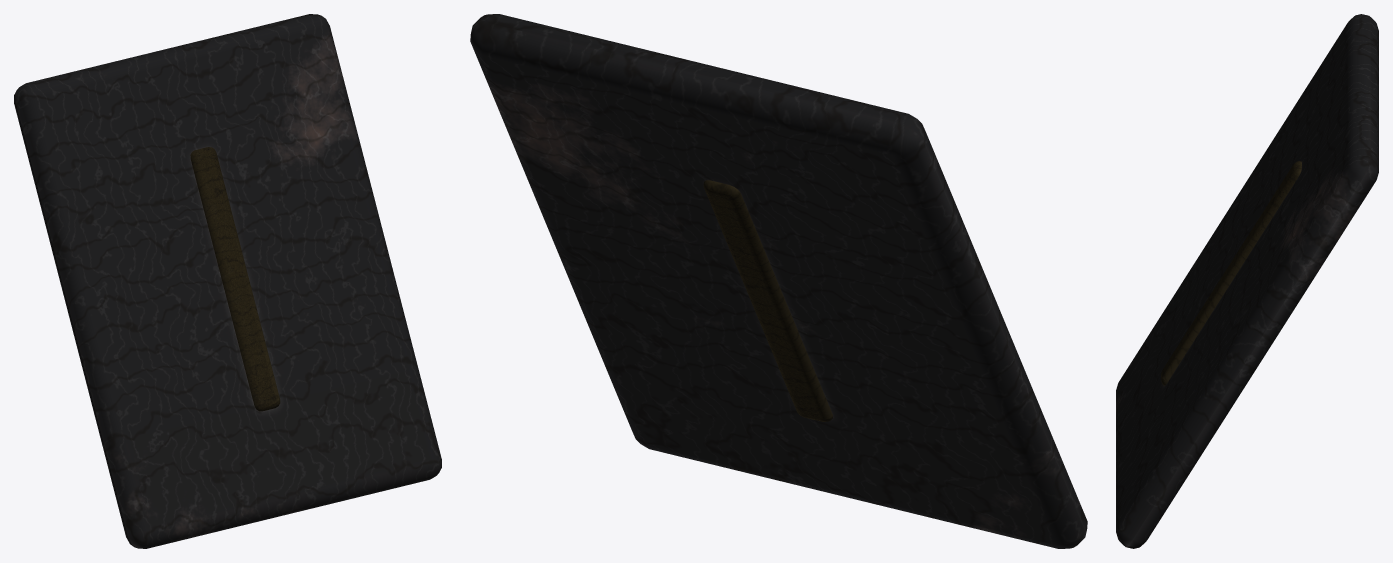
File: tableta.glb
3 views of the same model, side by side, from view 1: azimuth 30°, elevation 25°; view 2: azimuth 150°, elevation 25°; view 3: azimuth 270°, elevation 25° (orthographic). The views are drawn at different scales.
Parts seen in each view (by area): view 1: tableta; view 2: tableta; view 3: tableta.
Boxes of the visible parts, x1,y1,x2,y2 form: tableta: (14, 14, 441, 548); tableta: (470, 14, 1087, 548); tableta: (1116, 14, 1378, 548).
Size of the model in its own units: 0.24 by 0.2801 by 0.171.
Materials: 3 (1 with a texture image).
